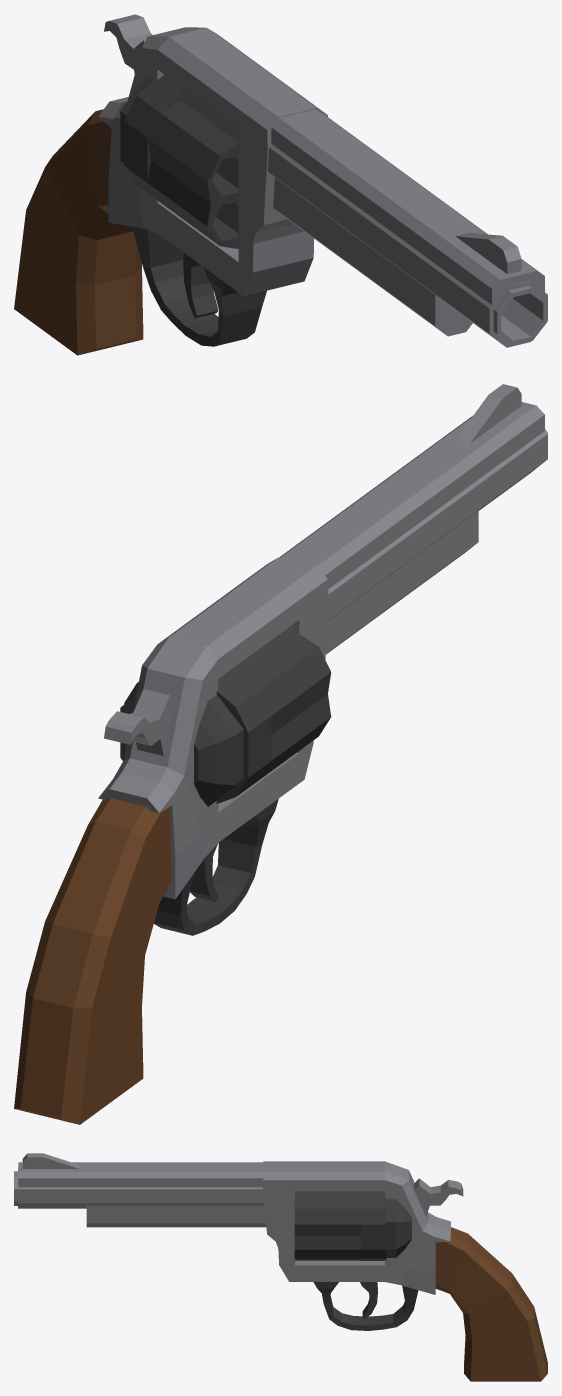
The model's file is schofield.glb.
The picture shows the model from 3 angles, top to bottom: view 1: azimuth 30°, elevation 25°; view 2: azimuth 150°, elevation 25°; view 3: azimuth 270°, elevation 25°; orthographic projection. The views are drawn at different scales.
Parts seen in each view (by area): view 1: Revolver_1; view 2: Revolver_1; view 3: Revolver_1.
Boxes of the visible parts, left/top/right/bottom form: Revolver_1: left=14, top=14, right=547, bottom=355; Revolver_1: left=14, top=384, right=547, bottom=1124; Revolver_1: left=14, top=1153, right=547, bottom=1381.
Size of the model in its own units: 0.0431 by 0.1302 by 0.29.
